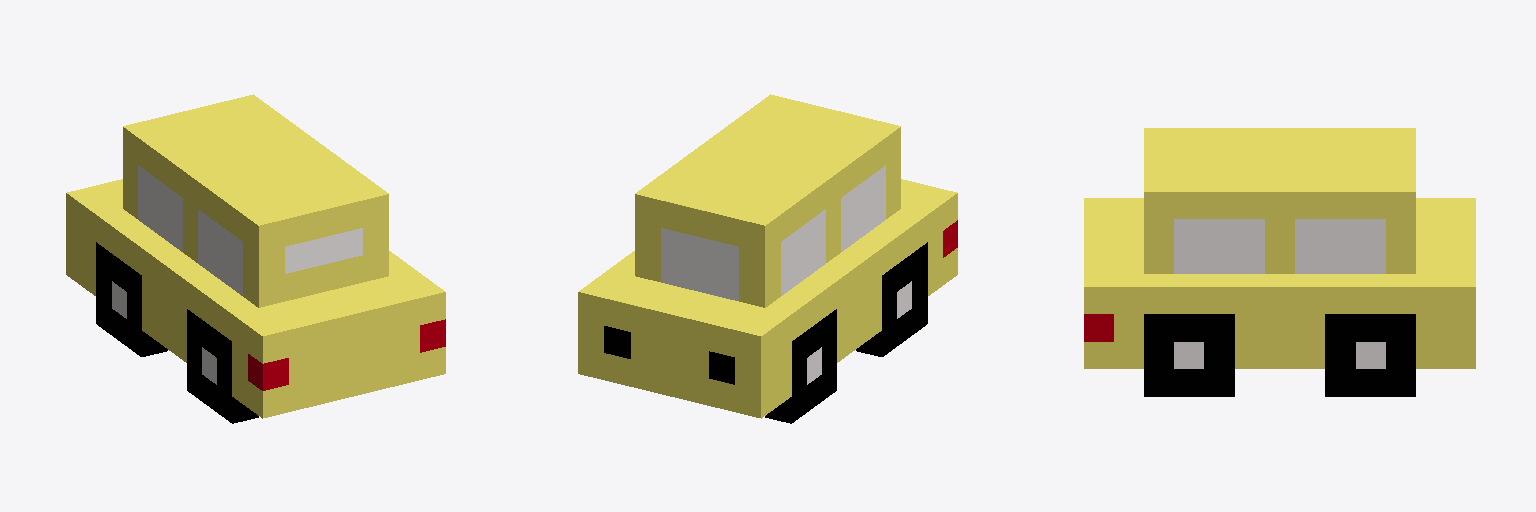
The picture shows the model from 3 angles: view 1: azimuth 30°, elevation 25°; view 2: azimuth 150°, elevation 25°; view 3: azimuth 270°, elevation 25°; orthographic projection.
Parts seen in each view (by area): view 1: Model; view 2: Model; view 3: Model.
Boxes of the visible parts, x1,y1,x2,y2 form: Model: [66, 94, 445, 423]; Model: [578, 94, 957, 423]; Model: [1084, 128, 1475, 396].
Size of the model in its own units: 14 by 14 by 26.
1 materials, 1 textured.